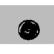correct: (17, 18, 42, 42)
